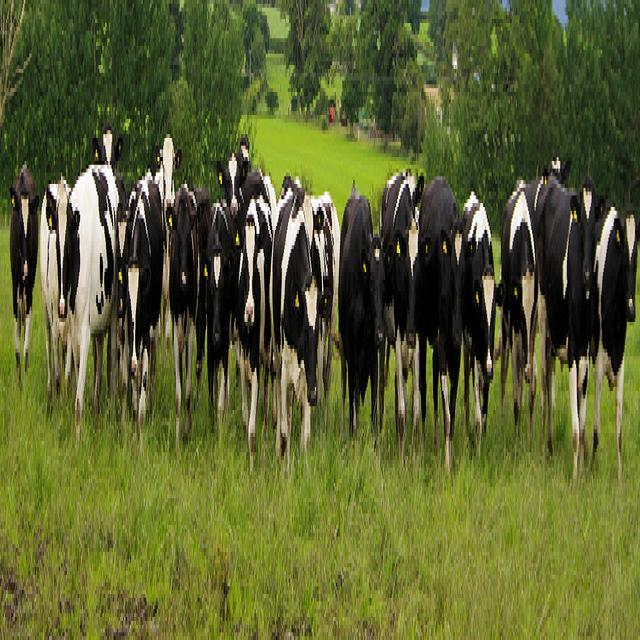cow: (37, 115, 638, 525), (533, 169, 604, 487), (45, 153, 118, 445), (268, 169, 330, 479), (416, 173, 475, 472), (119, 161, 165, 445), (339, 180, 386, 445), (164, 176, 210, 445), (492, 176, 537, 433), (460, 184, 504, 445), (237, 192, 271, 472), (304, 184, 337, 414), (8, 157, 38, 380), (201, 199, 232, 414)
